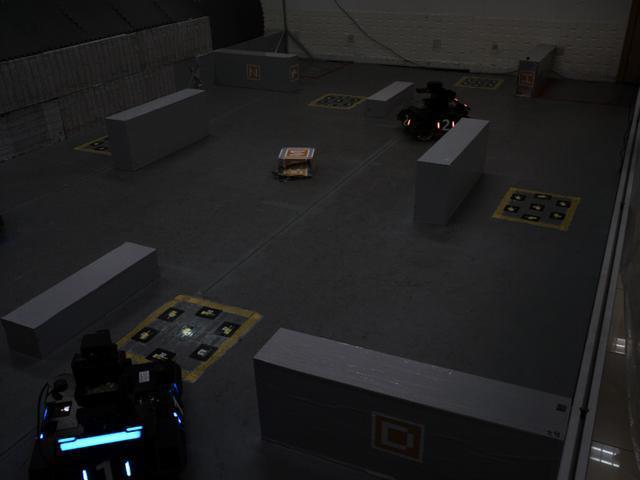armor: (77, 456, 137, 479), (434, 113, 458, 134)
